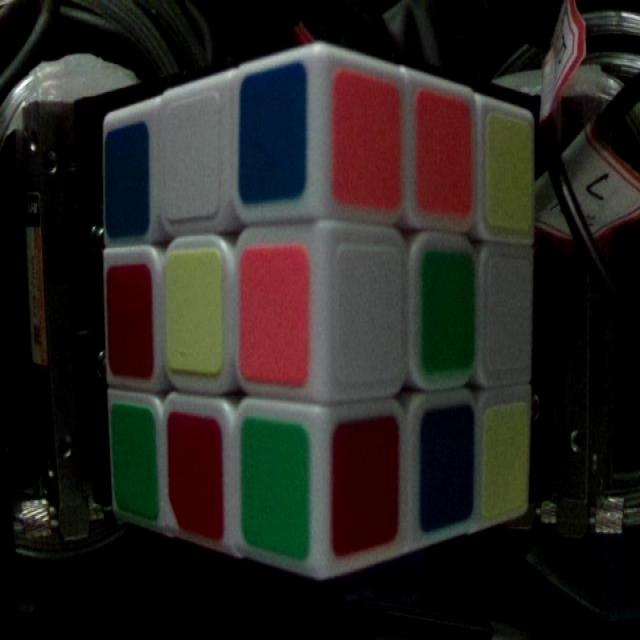b: (242, 67, 306, 201), (419, 408, 475, 523), (104, 126, 148, 237)
g: (244, 424, 308, 550), (420, 248, 475, 366), (112, 414, 156, 512)
o: (334, 80, 402, 208), (245, 249, 305, 379), (419, 94, 472, 207)
r: (329, 421, 398, 547), (168, 417, 224, 535), (105, 266, 154, 377)
w: (338, 249, 404, 375), (167, 97, 217, 217), (487, 254, 527, 370)
y: (165, 250, 220, 370), (486, 113, 534, 230), (484, 406, 528, 510)
